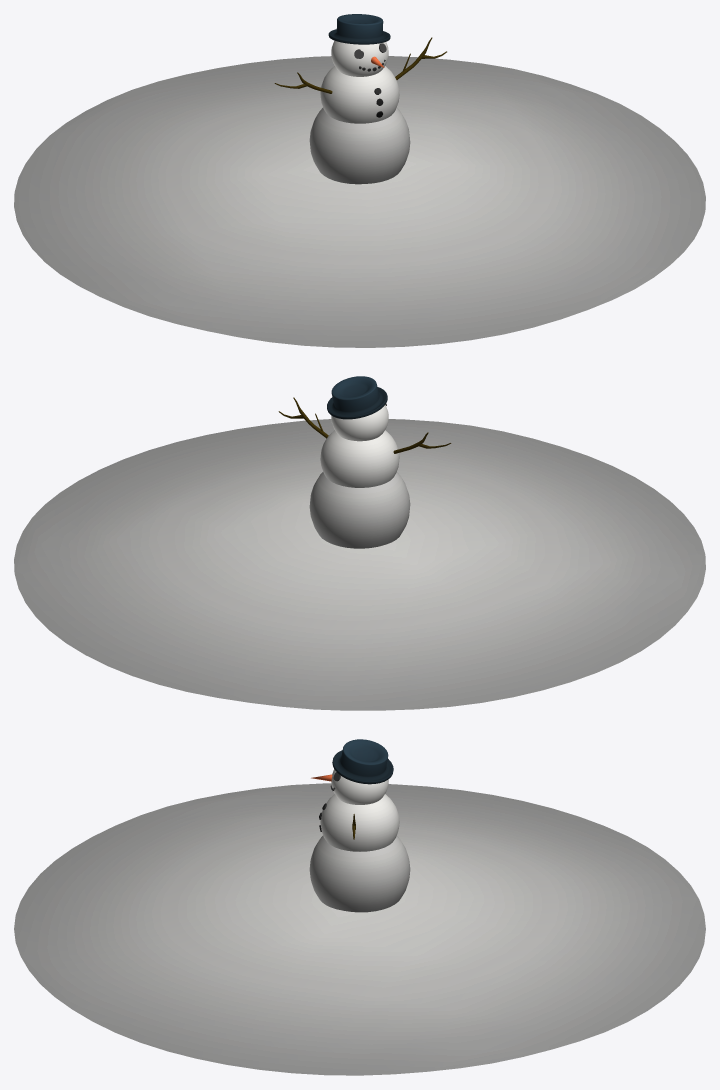
File: snowman.glb
3 renders of one model, top to bottom at view 1: azimuth 30°, elevation 25°; view 2: azimuth 150°, elevation 25°; view 3: azimuth 270°, elevation 25°, orthographic.
Parts seen in each view (by area): view 1: Ground, snowmanBallBottom, snowmanBallMiddle, snowmanBallTop, Hat; view 2: Ground, snowmanBallBottom, snowmanBallMiddle, Hat, snowmanBallTop; view 3: Ground, snowmanBallBottom, snowmanBallMiddle, Hat, snowmanBallTop.
Boxes of the visible parts, x1,y1,x2,y2 form: Ground: (14,56,705,347); snowmanBallBottom: (309,107,410,184); snowmanBallMiddle: (320,66,399,123); snowmanBallTop: (331,40,388,76); Hat: (328,14,390,44); Ground: (14,419,705,710); snowmanBallBottom: (309,472,410,548); snowmanBallMiddle: (320,430,399,487); Hat: (327,376,387,419); snowmanBallTop: (331,405,388,441); Ground: (14,783,705,1075); snowmanBallBottom: (309,835,410,912); snowmanBallMiddle: (320,794,399,851); Hat: (332,739,393,784); snowmanBallTop: (331,769,388,804).
Bounding box in the file's own units: 8.46 × 2.48 × 8.46.
2 materials, 1 textured.
